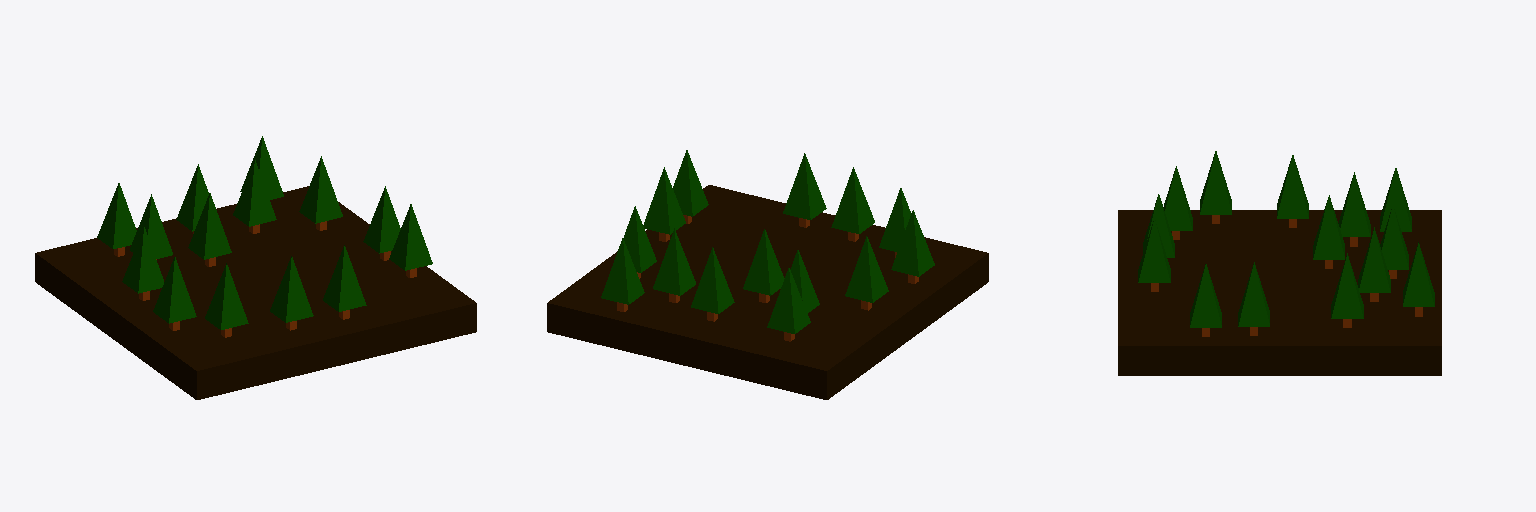
File: Forest3.obj
3 renders of one model, left to right at view 1: azimuth 30°, elevation 25°; view 2: azimuth 150°, elevation 25°; view 3: azimuth 270°, elevation 25°, orthographic.
Parts seen in each view (by area): view 1: Tilebase142, Pyramid394, Pyramid400, Pyramid398, Pyramid409, Pyramid415, Pyramid401, Pyramid411, Pyramid414, Pyramid405, Pyramid404, Pyramid407 (+3 smaller); view 2: Tilebase142, Pyramid405, Pyramid400, Pyramid411, Pyramid413, Pyramid414, Pyramid404, Pyramid415, Pyramid402, Pyramid407, Pyramid401, Pyramid409 (+3 smaller); view 3: Tilebase142, Pyramid398, Pyramid411, Pyramid400, Pyramid401, Pyramid405, Pyramid409, Pyramid407, Pyramid414, Pyramid413, Pyramid403, Pyramid394 (+3 smaller).
Boxes of the visible parts, x1,y1,x2,y2 form: Tilebase142: [35, 186, 476, 399]; Pyramid394: [205, 263, 248, 329]; Pyramid400: [233, 160, 276, 226]; Pyramid398: [299, 156, 342, 223]; Pyramid409: [389, 204, 432, 270]; Pyramid415: [270, 256, 313, 322]; Pyramid401: [188, 193, 231, 259]; Pyramid411: [323, 245, 366, 311]; Pyramid414: [153, 257, 196, 323]; Pyramid405: [122, 227, 163, 293]; Pyramid404: [97, 183, 136, 248]; Pyramid407: [363, 186, 400, 253]; Tilebase142: [547, 185, 988, 399]; Pyramid405: [845, 236, 888, 302]; Pyramid400: [653, 228, 695, 295]; Pyramid411: [783, 153, 826, 219]; Pyramid413: [601, 238, 644, 304]; Pyramid414: [891, 210, 934, 276]; Pyramid404: [767, 268, 810, 333]; Pyramid415: [831, 167, 874, 233]; Pyramid402: [691, 247, 734, 313]; Pyramid407: [643, 167, 685, 234]; Pyramid401: [743, 229, 784, 295]; Pyramid409: [673, 150, 708, 216]; Tilebase142: [1118, 210, 1441, 375]; Pyramid398: [1331, 253, 1363, 318]; Pyramid411: [1138, 218, 1170, 282]; Pyramid400: [1358, 227, 1390, 292]; Pyramid401: [1313, 195, 1344, 259]; Pyramid405: [1277, 155, 1308, 218]; Pyramid409: [1190, 264, 1221, 327]; Pyramid407: [1238, 262, 1269, 326]; Pyramid414: [1200, 151, 1231, 214]; Pyramid413: [1403, 242, 1434, 306]; Pyramid403: [1338, 172, 1370, 236]; Pyramid394: [1163, 166, 1192, 230].
Bounding box in the file's own units: 10 × 3.5 × 10.